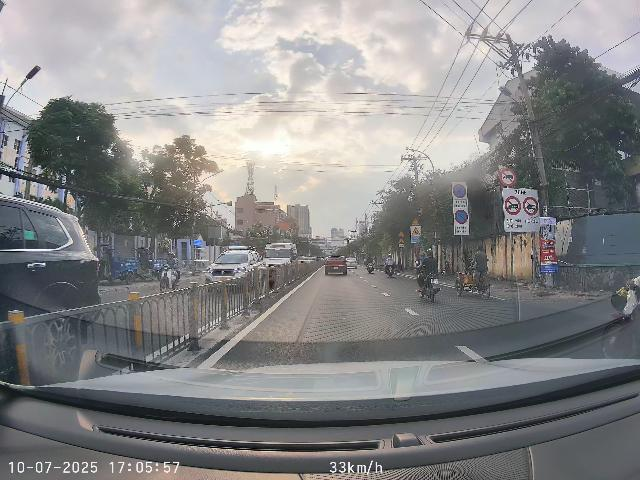106-cam-oto-tai: (505, 196, 521, 215), (523, 196, 538, 215)
130-cam-dung-va-do-xe: (453, 184, 466, 198)
131a-cam-do-xe: (455, 209, 468, 224)
